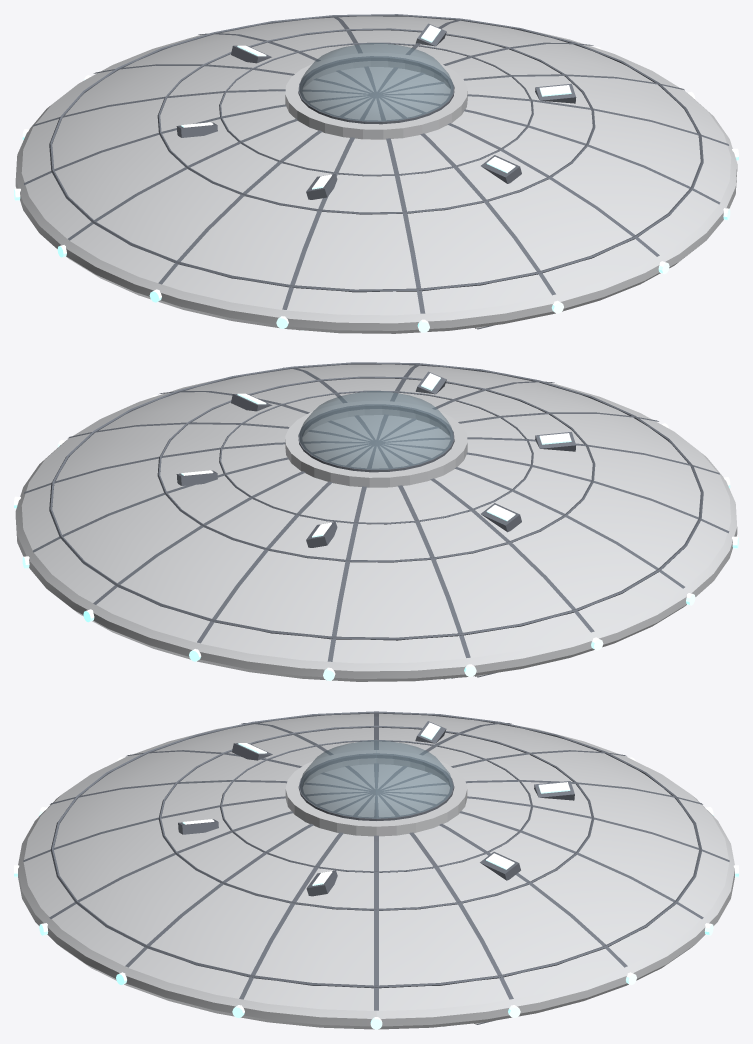
The model's file is ufo-crash-site-and-recovery-facility-saucer-craft-gear-218bfa96__17325.glb.
The picture shows the model from 3 angles, top to bottom: view 1: azimuth 30°, elevation 25°; view 2: azimuth 150°, elevation 25°; view 3: azimuth 270°, elevation 25°; orthographic projection.
Visible parts, largest first — view 1: saucer-craft-gear-stowed; view 2: saucer-craft-gear-stowed; view 3: saucer-craft-gear-stowed.
Boxes of the visible parts, bbox=[...] form: saucer-craft-gear-stowed: bbox=[14, 14, 738, 333]; saucer-craft-gear-stowed: bbox=[14, 362, 738, 681]; saucer-craft-gear-stowed: bbox=[14, 711, 738, 1029].
Bounding box in the file's own units: 12.12 × 3.42 × 12.12.
